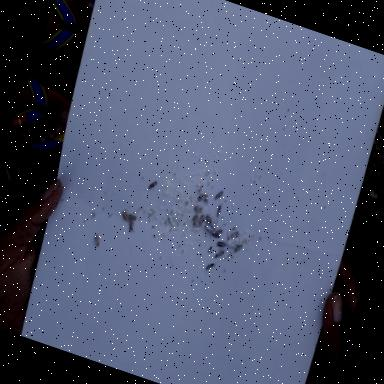pbw: (120, 210, 132, 224), (214, 247, 226, 260), (147, 178, 158, 192), (92, 234, 102, 248), (214, 188, 224, 202), (215, 203, 224, 218), (196, 214, 206, 227), (230, 230, 240, 241), (128, 212, 138, 222), (204, 214, 214, 224), (128, 220, 136, 232), (193, 204, 203, 212), (206, 262, 214, 272), (235, 244, 242, 254), (212, 233, 222, 240), (192, 216, 198, 226), (215, 228, 223, 235), (218, 241, 225, 248), (200, 192, 208, 198), (208, 246, 213, 252)
